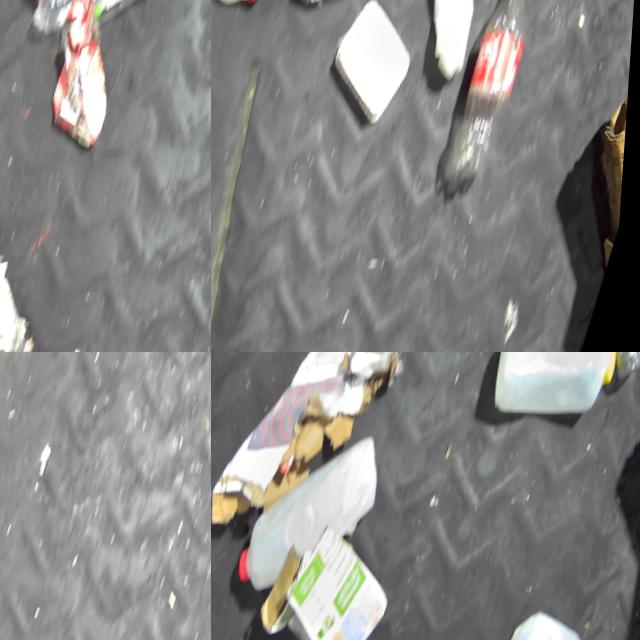milk_jug: (232, 408, 400, 620), (481, 352, 637, 436), (483, 597, 623, 640)
plastic_bottle: (441, 0, 551, 191)
